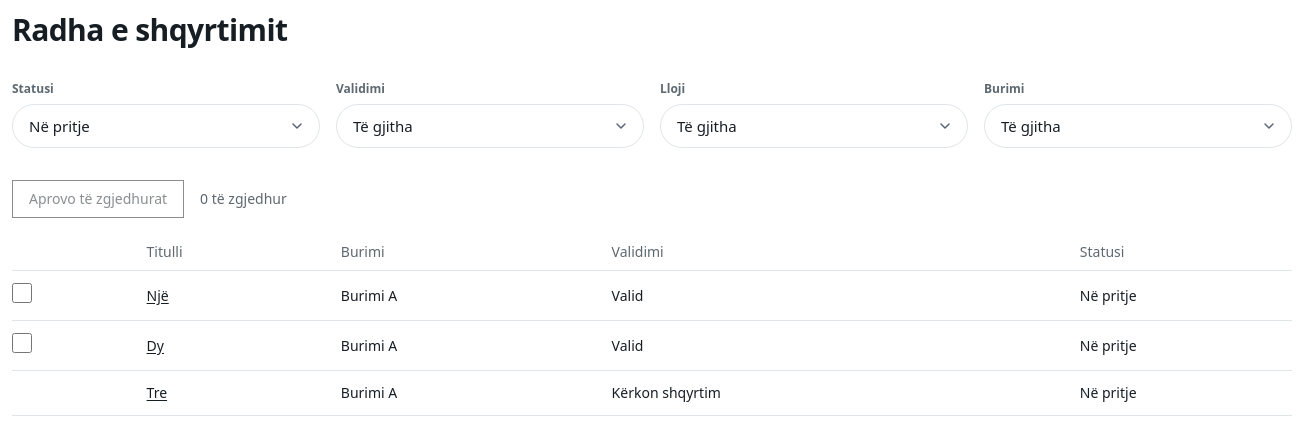
Test case: ReviewQueuePage › bulk-approves selected valid rows and reports a failure
The image size is (1304, 433).
Expected: the link "Një" is shown, [147, 286, 169, 304]
Expected: the button "Aprovo të zgjedhurat" is disabled, [12, 180, 184, 218]
Click the checkbox named "Zgjidh Një". click: (22, 293)
box: [12, 283, 32, 303]
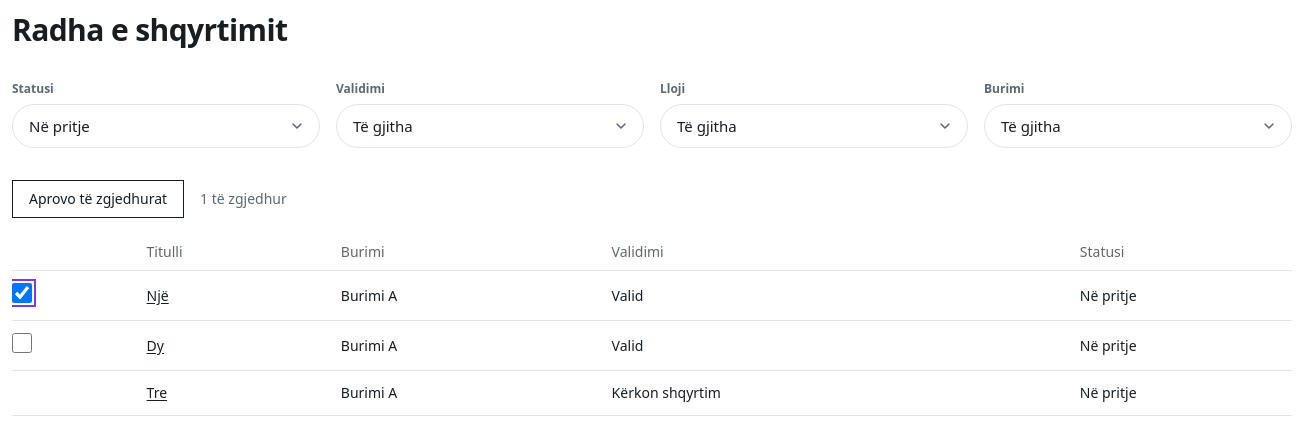
Click the checkbox named "Zgjidh Dy". click: (22, 343)
box: [12, 333, 32, 353]
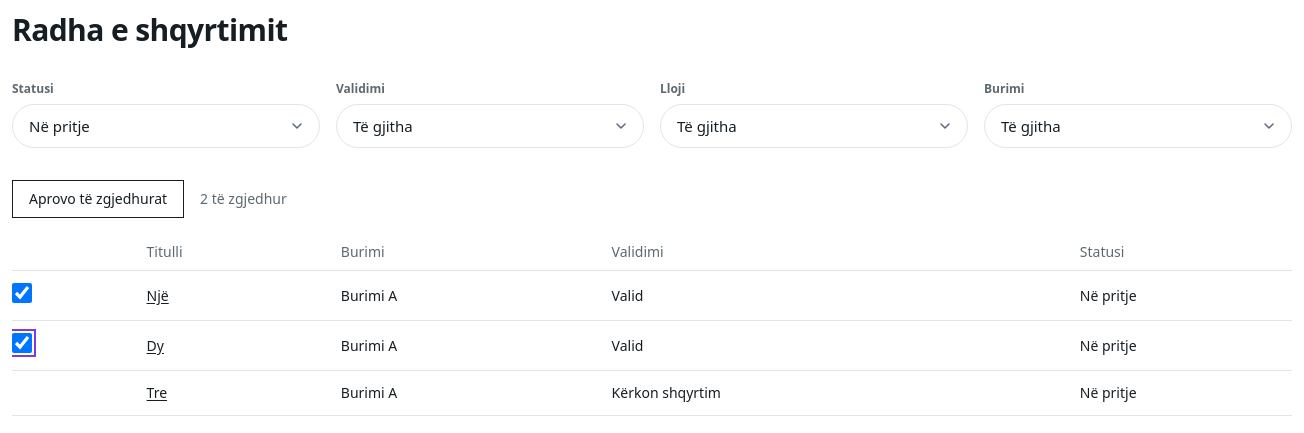
Click the button "Aprovo të zgjedhurat". click: (98, 199)
box: [12, 180, 184, 218]
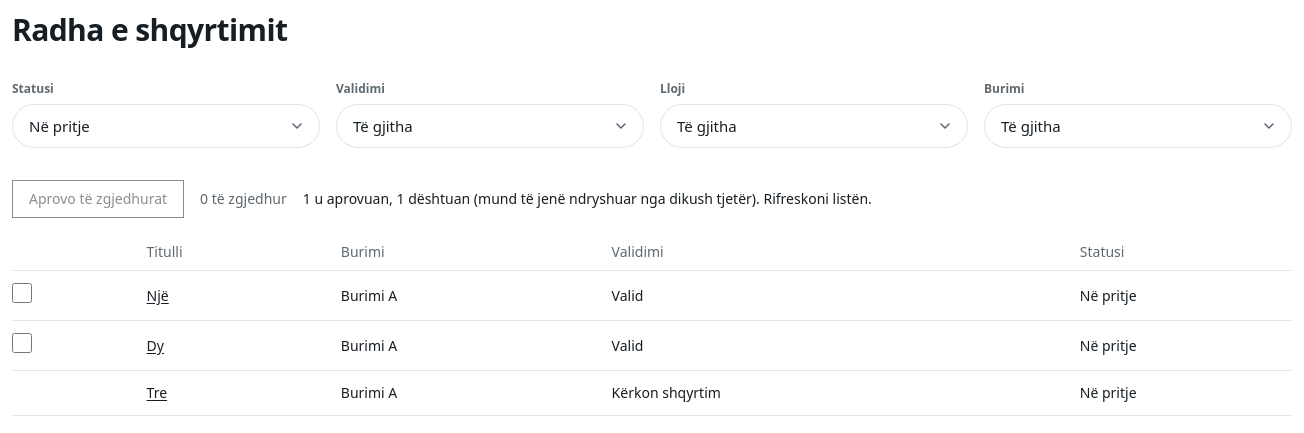
Expected: the text "1 u aprovuan, 1 dështuan" is shown, [303, 189, 872, 208]
